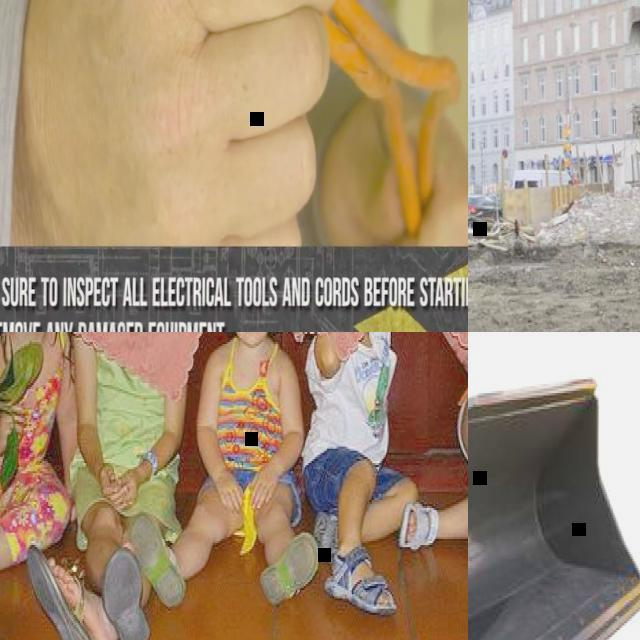machinery: (468, 332, 640, 640)
no_mask: (235, 332, 268, 346)
no_vest: (89, 344, 168, 472), (315, 332, 390, 461), (0, 346, 64, 480), (216, 344, 282, 466)
person: (0, 0, 468, 247), (133, 332, 321, 608), (28, 332, 181, 640), (305, 332, 419, 616), (0, 332, 79, 598), (400, 332, 468, 555)
vehicle: (468, 192, 503, 230), (514, 168, 572, 189)
